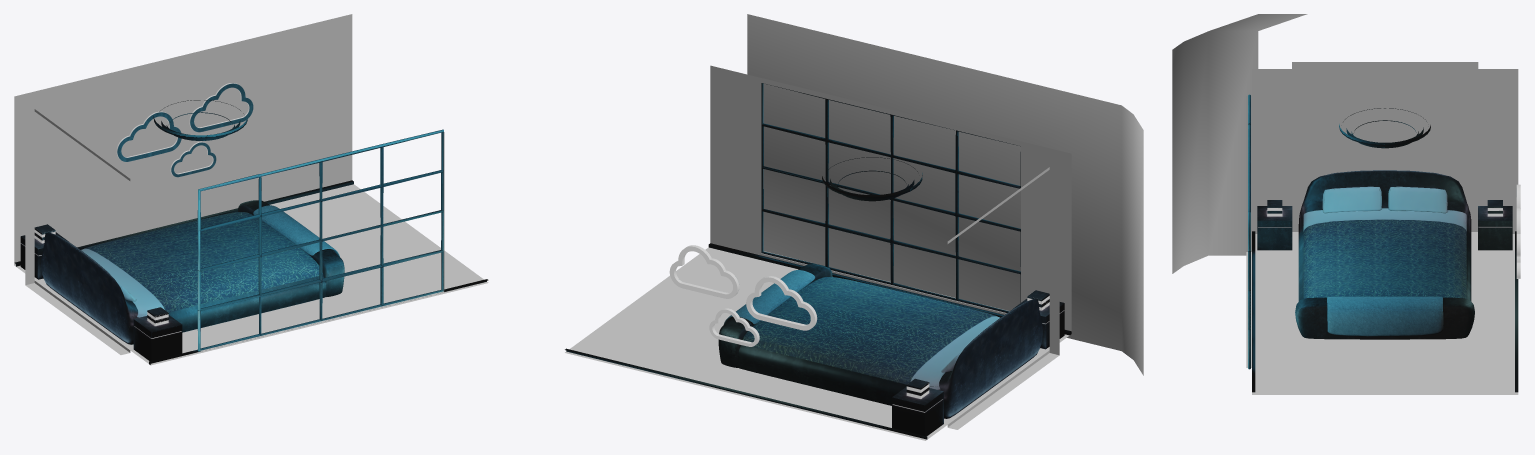
3 renders of one model, left to right at view 1: azimuth 30°, elevation 25°; view 2: azimuth 150°, elevation 25°; view 3: azimuth 270°, elevation 25°, orthographic. The views are drawn at different scales.
Visible parts, largest first — view 1: Cozy Modern Bedroom; view 2: Cozy Modern Bedroom; view 3: Cozy Modern Bedroom.
Part boxes in pixels (bbox=[...]): Cozy Modern Bedroom: bbox=[14, 14, 488, 365]; Cozy Modern Bedroom: bbox=[565, 14, 1143, 440]; Cozy Modern Bedroom: bbox=[1172, 14, 1520, 394].
Size of the model in its own units: 6.13 by 3.73 by 4.86.
